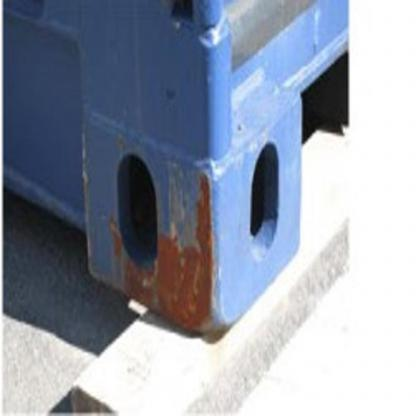CornerCasting: (76, 92, 308, 342)
